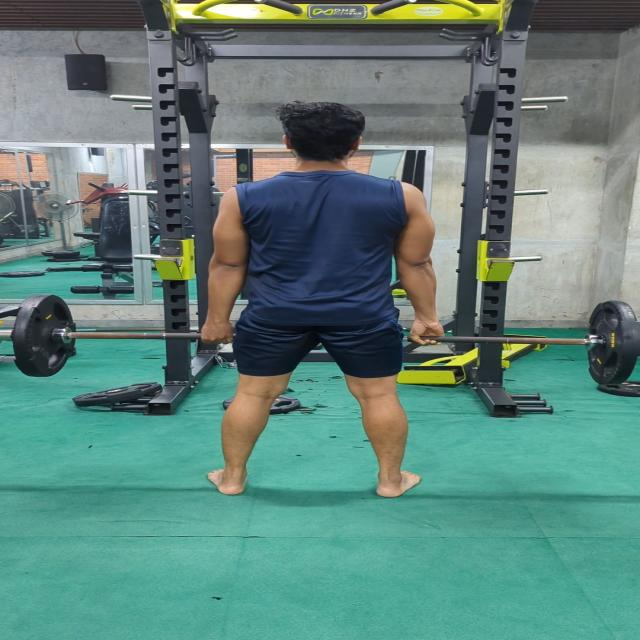Normal_Deadlifts: (201, 103, 444, 499)
